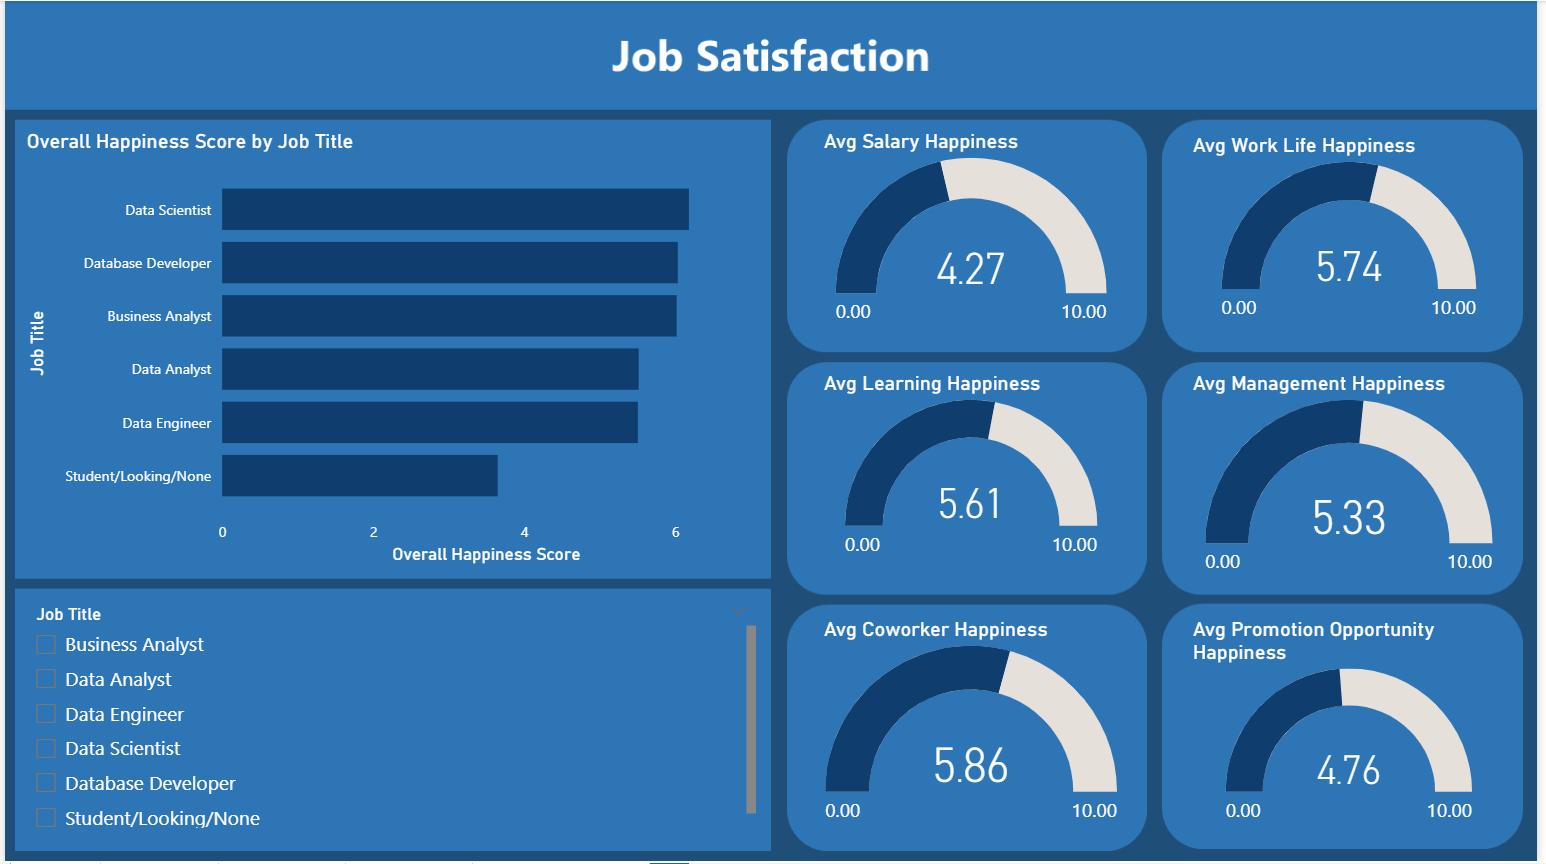

What the dashboard file says about the page in this screenshot:
{"tool":"powerbi","page":{"name":"Job Satisfaction","canvas":[1280,720],"ordinal":2},"visuals":[{"type":"gauge","fields":{"Y":["Data Professional Survey.Avg Salary Happiness"]},"box":[678.9,107,255.8,173.1],"z":0},{"type":"gauge","fields":{"Y":["Data Professional Survey.Avg Work Life Happiness"]},"box":[987.2,109.9,270.4,166.3],"z":1000},{"type":"gauge","fields":{"Y":["Data Professional Survey.Avg Coworker Happiness"]},"box":[678.9,514.5,255.8,181.9],"z":2000},{"type":"gauge","fields":{"Y":["Data Professional Survey.Avg Management Happiness"]},"box":[987.2,309.3,270.4,179.9],"z":3000},{"type":"gauge","fields":{"Y":["Data Professional Survey.Avg Promotion Opportunity Happiness"]},"box":[987.2,514.5,270.4,181.9],"z":4000},{"type":"gauge","fields":{"Y":["Data Professional Survey.Avg Learning Satisfaction"]},"box":[678.9,309.3,255.8,165.3],"z":5000},{"type":"clusteredBarChart","fields":{"Category":["Data Professional Survey.Job Title"],"Y":["Data Professional Survey.Overall Happiness Score"]},"box":[13.6,107,618.6,367.7],"z":6000},{"type":"slicer","fields":{"Values":["Data Professional Survey.Job Title"]},"box":[13.6,499,618.6,197.4],"z":7000}]}

Visuals, with their boxes in screenshot pixels (x1, y1, x2, y2), scaled from the page's 1280x720 canvas onto the 1546x864 screenshot:
gauge - Data Professional Survey.Avg Salary Happiness: pyautogui.locateOnScreen(820, 128, 1129, 336)
gauge - Data Professional Survey.Avg Work Life Happiness: pyautogui.locateOnScreen(1192, 132, 1519, 331)
gauge - Data Professional Survey.Avg Coworker Happiness: pyautogui.locateOnScreen(820, 617, 1129, 836)
gauge - Data Professional Survey.Avg Management Happiness: pyautogui.locateOnScreen(1192, 371, 1519, 587)
gauge - Data Professional Survey.Avg Promotion Opportunity Happiness: pyautogui.locateOnScreen(1192, 617, 1519, 836)
gauge - Data Professional Survey.Avg Learning Satisfaction: pyautogui.locateOnScreen(820, 371, 1129, 570)
clusteredBarChart - Data Professional Survey.Job Title x Data Professional Survey.Overall Happiness Score: pyautogui.locateOnScreen(16, 128, 764, 570)
slicer - Data Professional Survey.Job Title: pyautogui.locateOnScreen(16, 599, 764, 836)
